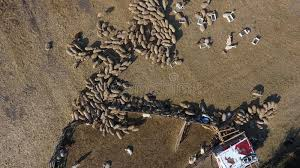sheep: (249, 88, 263, 99), (124, 147, 136, 158), (94, 17, 103, 31), (141, 92, 152, 103), (42, 40, 52, 52), (178, 101, 191, 110), (70, 60, 81, 69), (120, 81, 129, 90), (132, 46, 142, 54), (90, 60, 101, 67), (246, 104, 253, 115), (125, 123, 135, 130), (83, 46, 96, 51), (171, 34, 177, 44), (115, 130, 121, 139), (169, 23, 175, 31), (160, 54, 165, 62)
